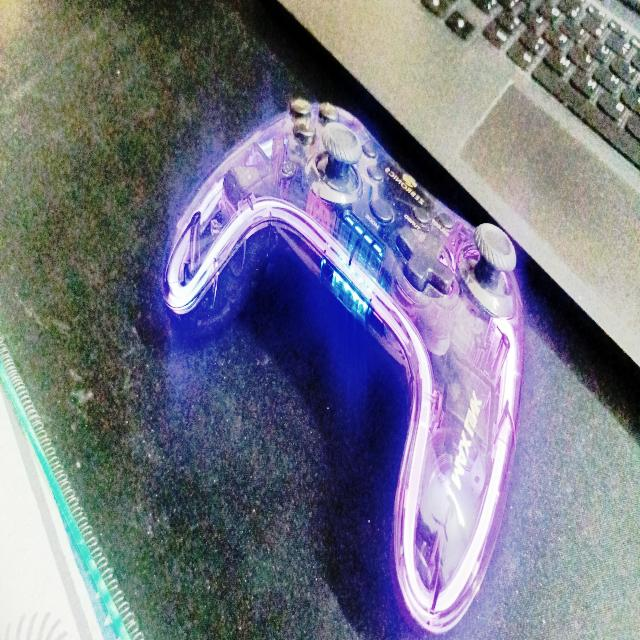gamepad: (159, 95, 527, 634)
